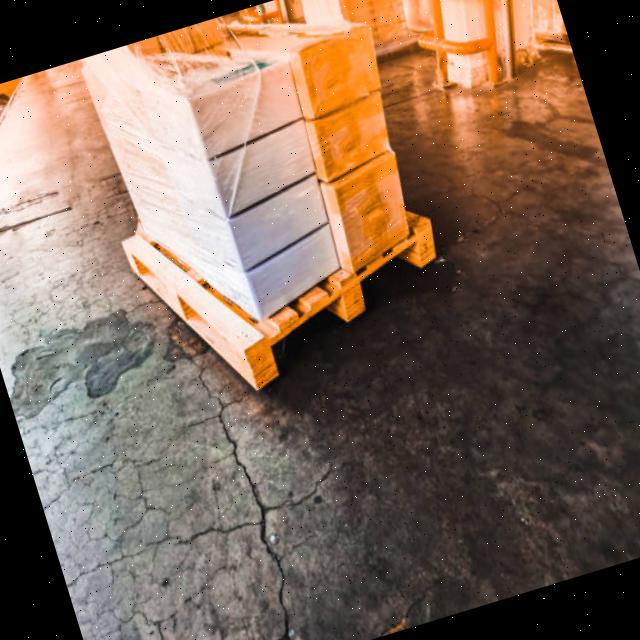Wooden-Pallets: (119, 222, 439, 392)
